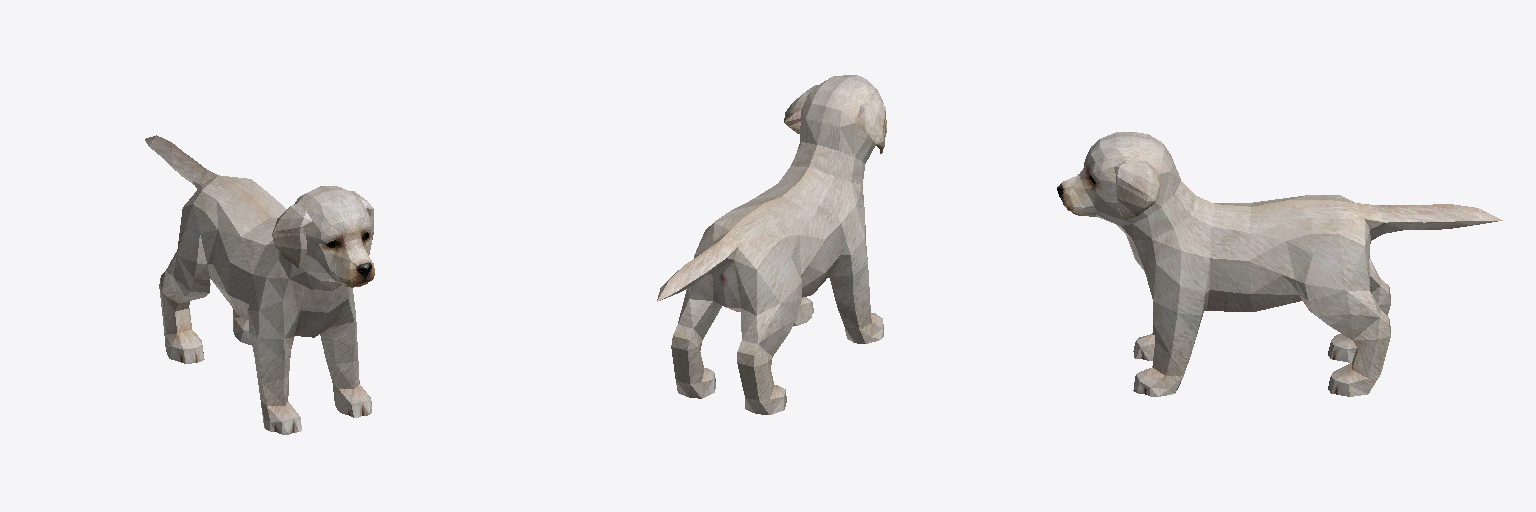
The picture shows the model from 3 angles: view 1: azimuth 30°, elevation 25°; view 2: azimuth 150°, elevation 25°; view 3: azimuth 270°, elevation 25°; orthographic projection.
Visible parts, largest first — view 1: vsn_mesh_1__mesh_1_.001; view 2: vsn_mesh_1__mesh_1_.001; view 3: vsn_mesh_1__mesh_1_.001.
Boxes of the visible parts, box(x1,y1,x2,y2) form: vsn_mesh_1__mesh_1_.001: box(145, 135, 374, 434); vsn_mesh_1__mesh_1_.001: box(657, 75, 886, 414); vsn_mesh_1__mesh_1_.001: box(1057, 132, 1502, 396).
Size of the model in its own units: 1.49 by 3.28 by 5.53.
Materials: 3 (3 with a texture image).